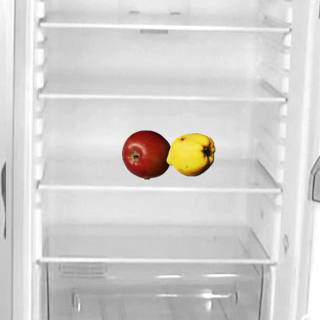Apple Braeburn: (121, 129, 171, 179)
Quince: (165, 129, 215, 179)
